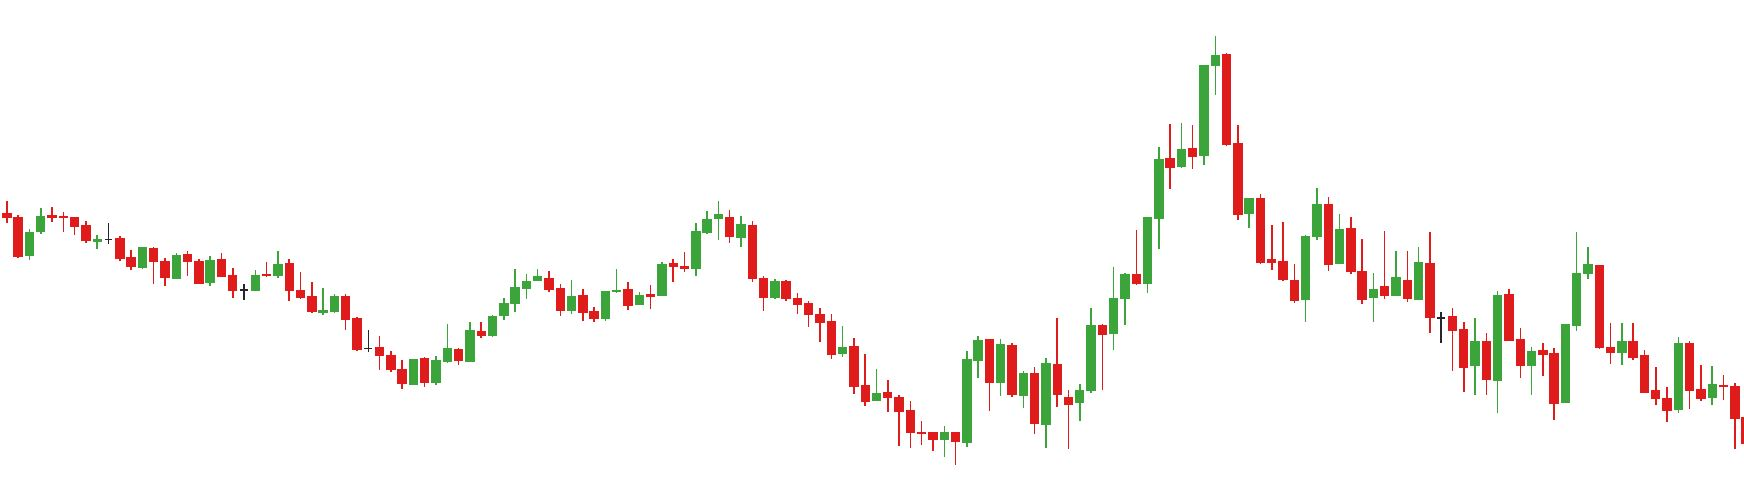sell: (1492, 235, 1605, 328)
